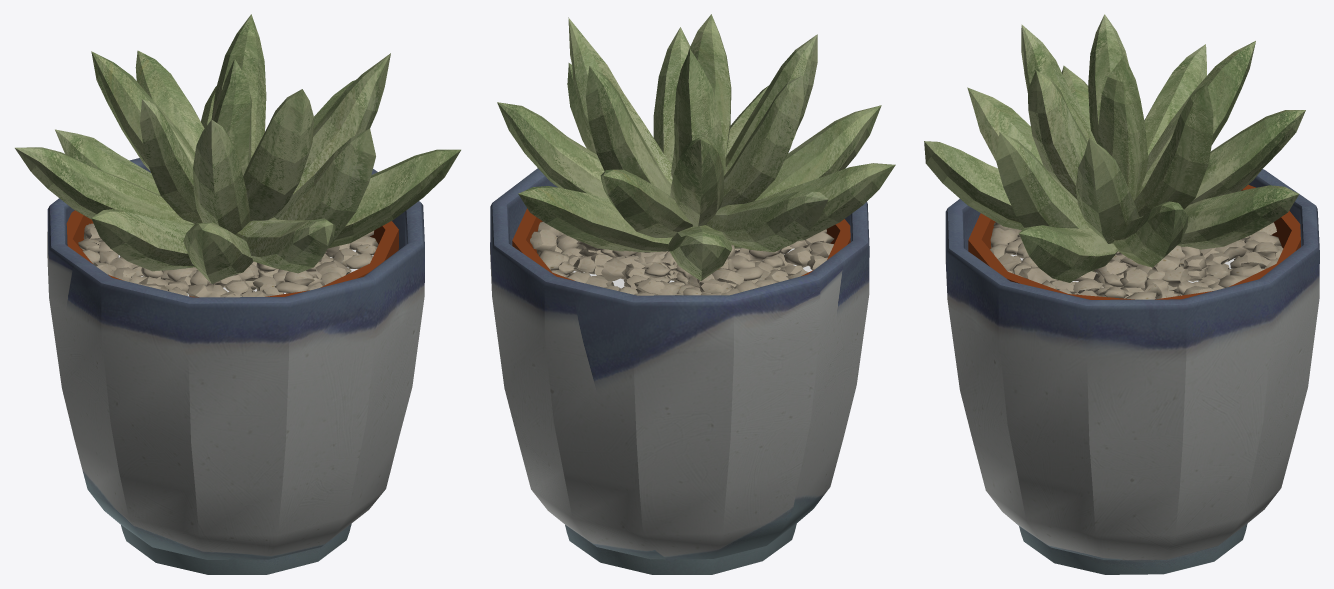
Rendered from cactus_2.fbx.
The picture shows the model from 3 angles, left to right: view 1: azimuth 30°, elevation 25°; view 2: azimuth 150°, elevation 25°; view 3: azimuth 270°, elevation 25°; orthographic projection.
Parts seen in each view (by area): view 1: cactus_gasteria.002, cactus_gasteria.003, cactus_gasteria.001, cactus_gasteria.004; view 2: cactus_gasteria.002, cactus_gasteria.003, cactus_gasteria.001, cactus_gasteria.004; view 3: cactus_gasteria.002, cactus_gasteria.003, cactus_gasteria.001, cactus_gasteria.004.
Boxes of the visible parts, x1,y1,x2,y2 form: cactus_gasteria.002: (47,158,424,574); cactus_gasteria.003: (15,14,460,283); cactus_gasteria.001: (78,223,378,297); cactus_gasteria.004: (66,210,398,297); cactus_gasteria.002: (490,168,869,574); cactus_gasteria.003: (497,14,895,280); cactus_gasteria.001: (530,221,834,295); cactus_gasteria.004: (512,208,850,280); cactus_gasteria.002: (945,169,1319,574); cactus_gasteria.003: (924,14,1305,282); cactus_gasteria.001: (990,222,1283,299); cactus_gasteria.004: (968,184,1300,299).
Bounding box in the file's own units: 1016 × 1307 × 996.
